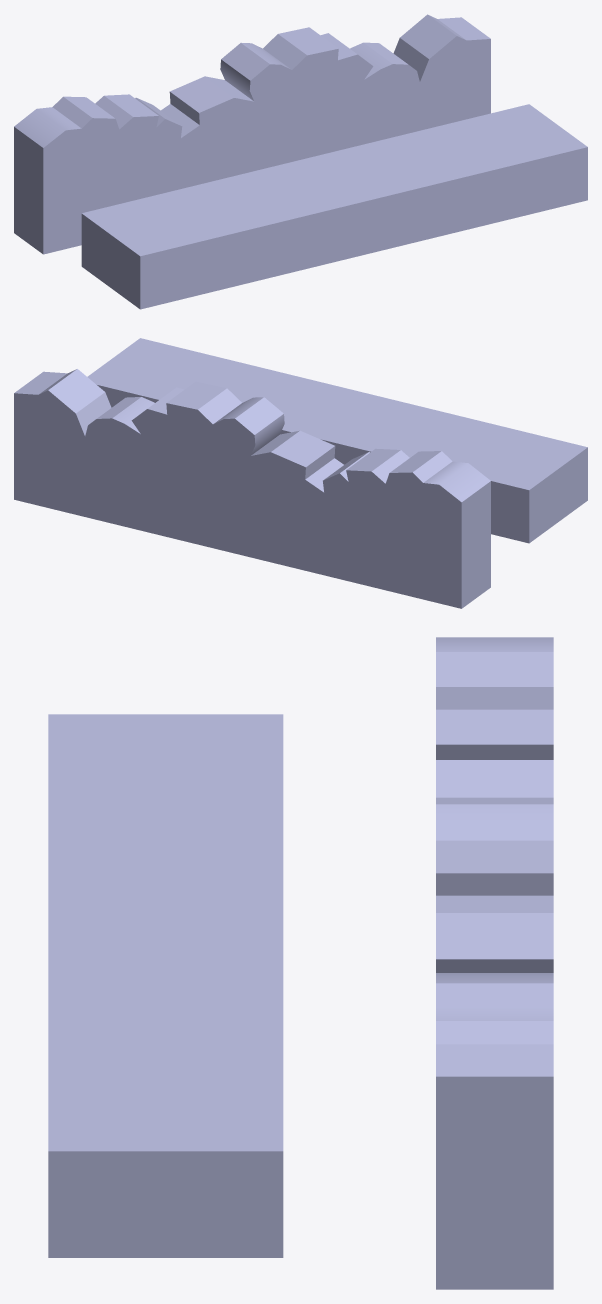
Rendered from Flat.fbx.
The picture shows the model from 3 angles, top to bottom: view 1: azimuth 30°, elevation 25°; view 2: azimuth 150°, elevation 25°; view 3: azimuth 270°, elevation 25°; orthographic projection. The views are drawn at different scales.
Visible parts, largest first — view 1: Flat, FlatTrack; view 2: Flat, FlatTrack; view 3: FlatTrack, Flat.
Part boxes in pixels (x1,y1,x2,y2): Flat: [14, 14, 490, 254]; FlatTrack: [81, 104, 587, 309]; Flat: [14, 369, 490, 608]; FlatTrack: [87, 338, 587, 543]; FlatTrack: [48, 714, 283, 1257]; Flat: [436, 637, 553, 1289].
Bounding box in the file's own units: 44 × 12.67 × 21.5.
